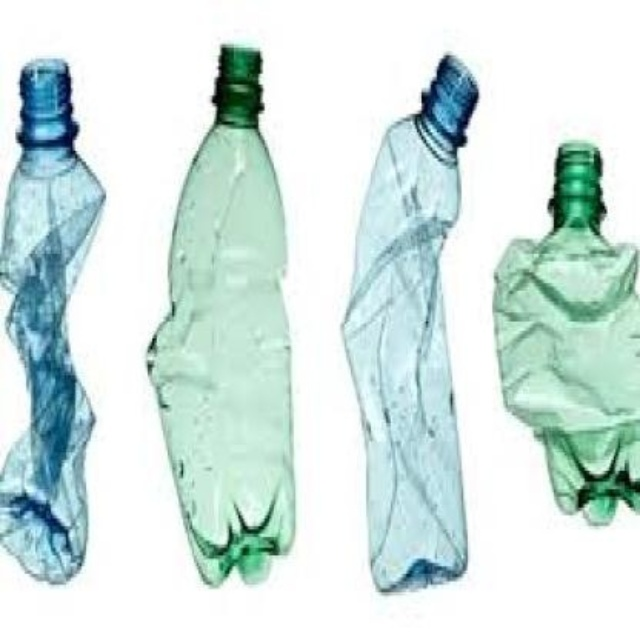trash: (148, 46, 294, 585), (343, 55, 477, 589), (494, 142, 638, 523), (0, 58, 103, 582)
